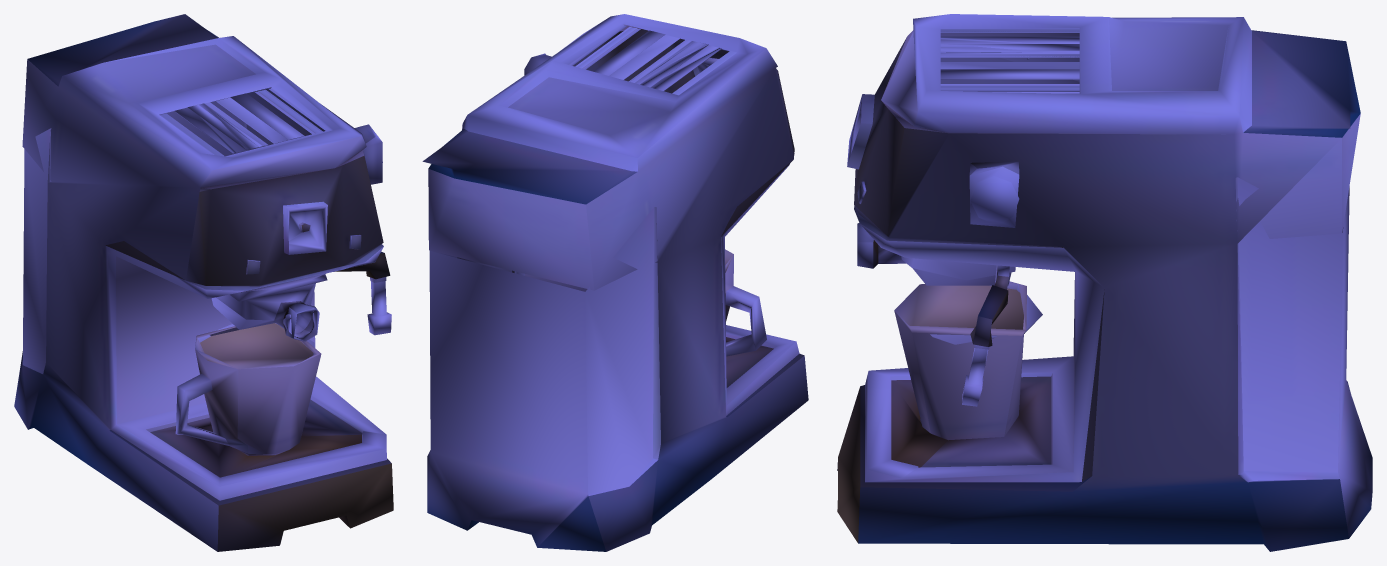
File: model.progressive.glb
3 renders of one model, left to right at view 1: azimuth 30°, elevation 25°; view 2: azimuth 150°, elevation 25°; view 3: azimuth 270°, elevation 25°, orthographic. The views are drawn at different scales.
Parts seen in each view (by area): view 1: EspressoMachine1; view 2: EspressoMachine1; view 3: EspressoMachine1.
Boxes of the visible parts, x1,y1,x2,y2 form: EspressoMachine1: (14,14,393,551); EspressoMachine1: (422,14,808,551); EspressoMachine1: (837,14,1372,551).
Size of the model in its own units: 1.16 by 1.7 by 1.89.
Materials: 1 (1 with a texture image).
